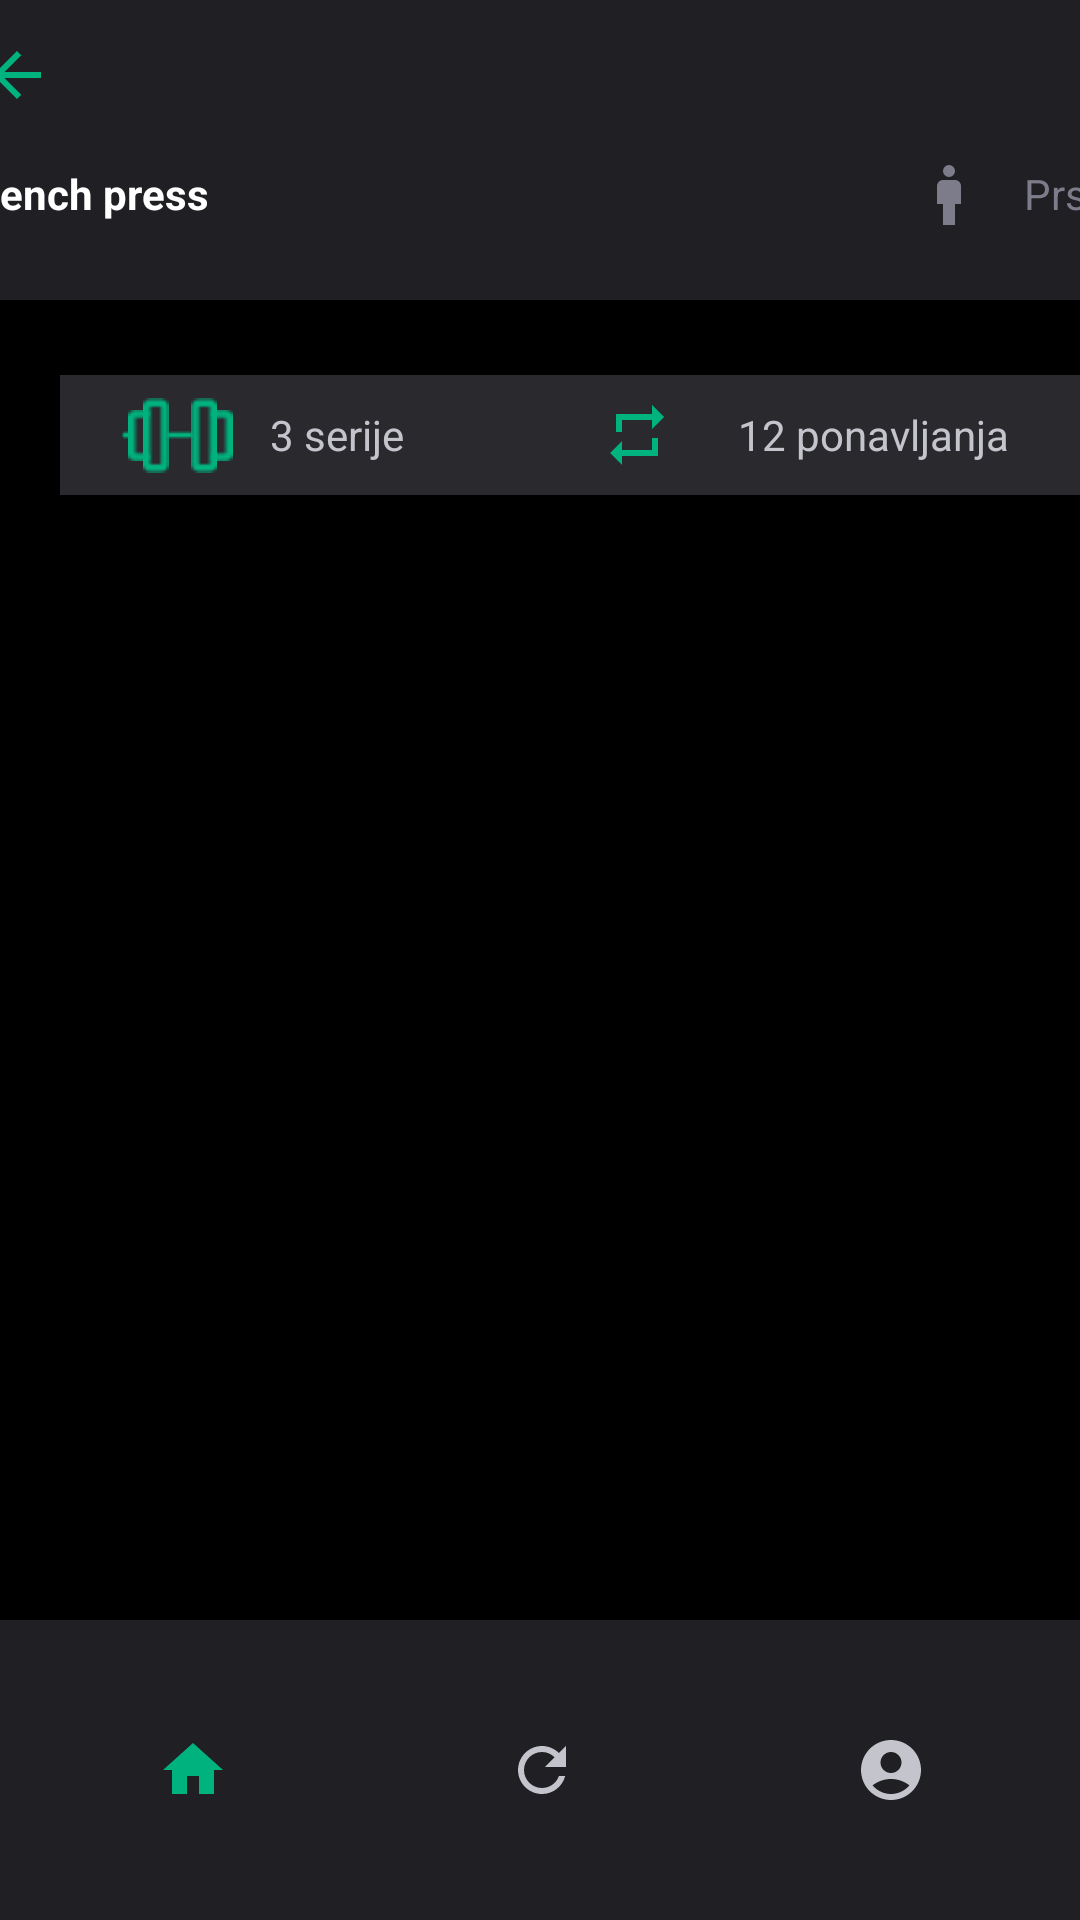

Screen size 1080px×1920px. Icon name, then its box in pixels as (x1, y1, x2, y2):
account: (861, 1740, 921, 1800)
home: (163, 1743, 223, 1794)
man: (937, 165, 961, 225)
refresh: (518, 1746, 566, 1794)
repeat: (610, 405, 664, 465)
